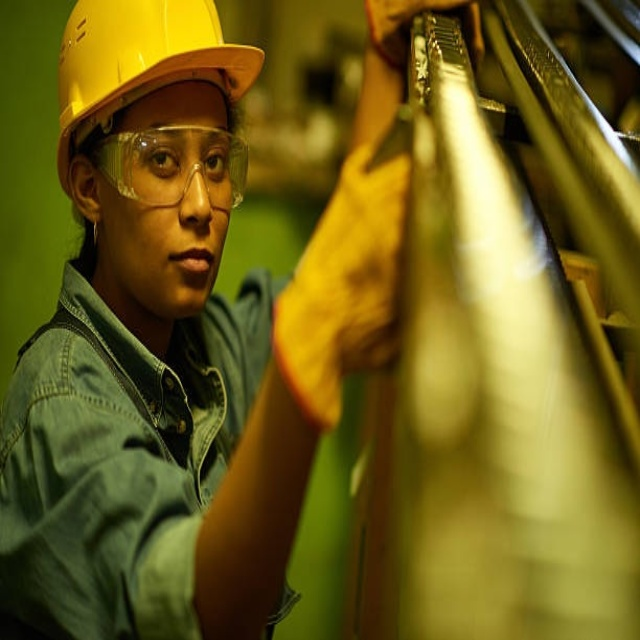Gafas: (88, 126, 252, 211)
Guantes: (270, 141, 406, 430)
Sin_mascara: (157, 236, 219, 305)
